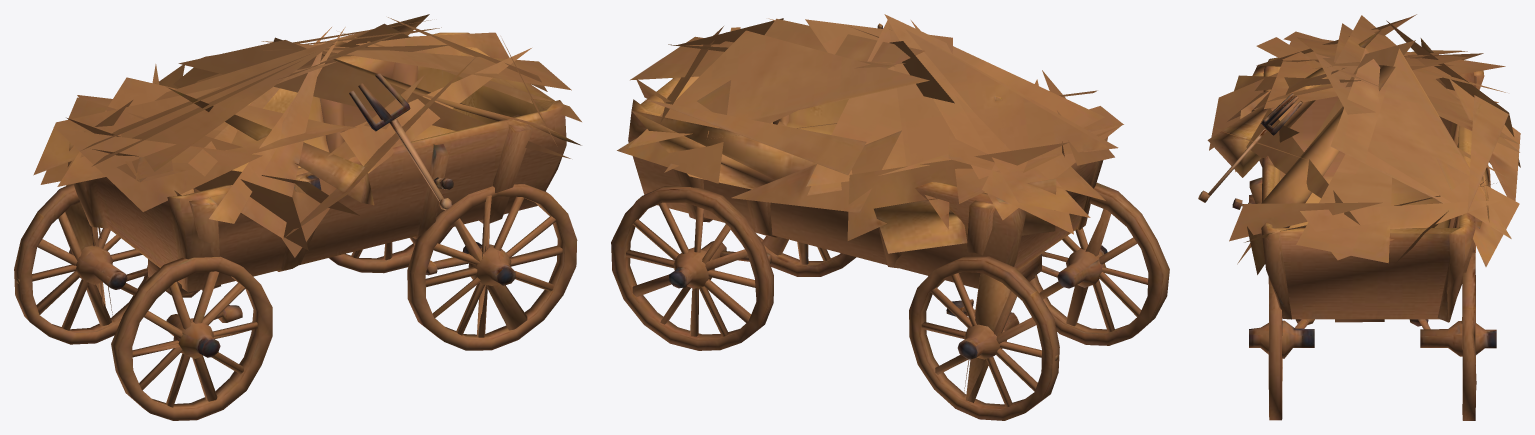
Rendered from haycart.glb.
3 views of the same model, side by side, from view 1: azimuth 30°, elevation 25°; view 2: azimuth 150°, elevation 25°; view 3: azimuth 270°, elevation 25° (orthographic). The views are drawn at different scales.
Size of the model in its own units: 0.9497 by 0.5879 by 0.5869.
1 material, 1 textured.
